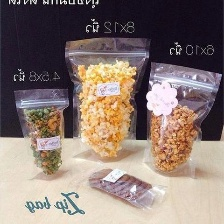snack: (60, 31, 156, 166), (137, 57, 223, 181), (9, 83, 74, 181), (81, 156, 172, 219)
